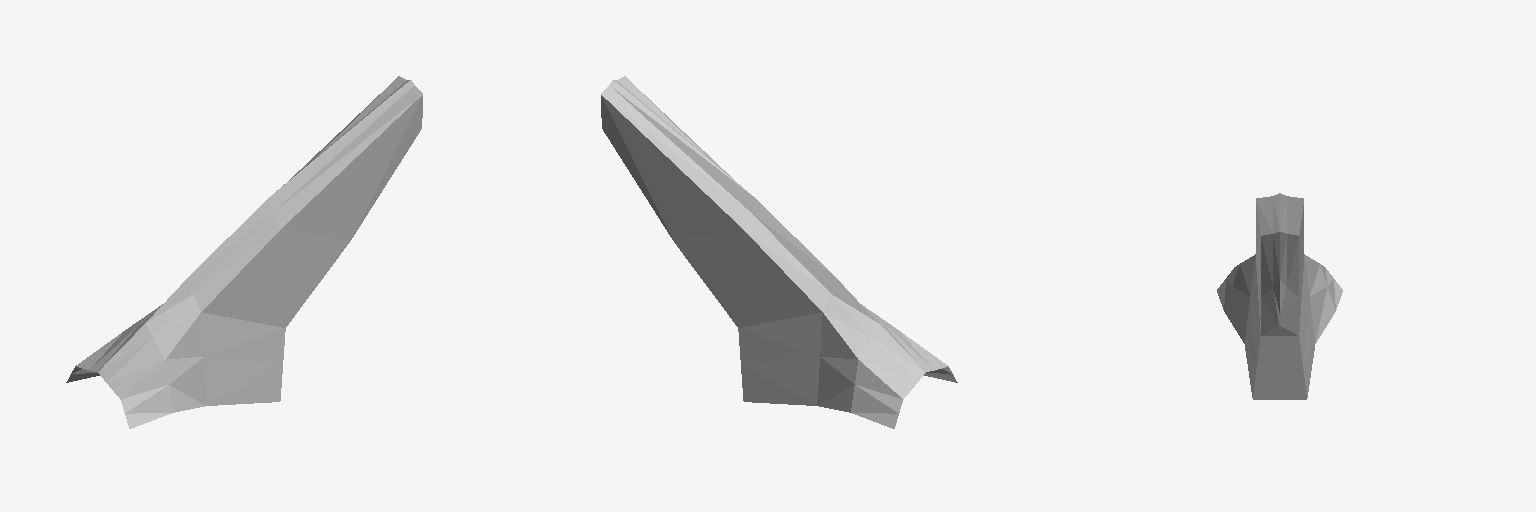
File: BackFin_Top.obj
The picture shows the model from 3 angles: view 1: azimuth 30°, elevation 25°; view 2: azimuth 150°, elevation 25°; view 3: azimuth 270°, elevation 25°; orthographic projection.
Visible parts, largest first — view 1: polySurface8 pCylinder5; view 2: polySurface8 pCylinder5; view 3: polySurface8 pCylinder5.
Part boxes in pixels (bbox=[...]): polySurface8 pCylinder5: bbox=[66, 76, 422, 428]; polySurface8 pCylinder5: bbox=[601, 76, 957, 428]; polySurface8 pCylinder5: bbox=[1217, 193, 1342, 399].
Bounding box in the file's own units: 3.99 × 3.34 × 1.39.